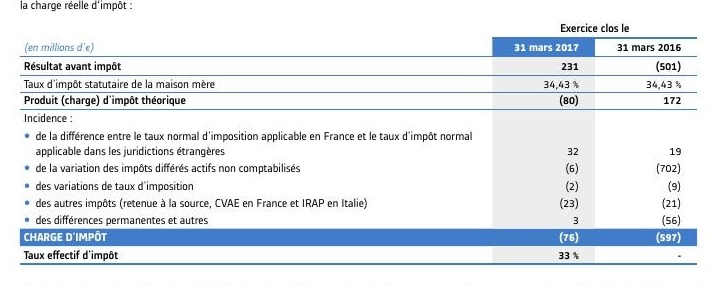table: (0, 0, 723, 285)
